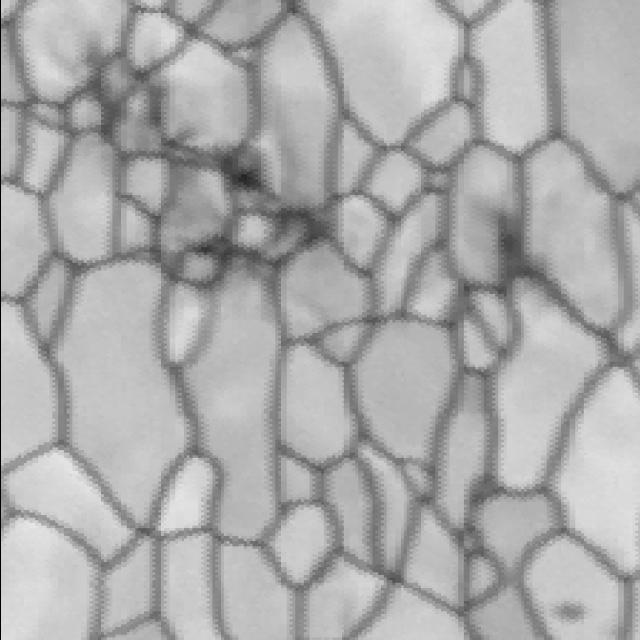good_void: (472, 214, 563, 303), (211, 131, 274, 206), (545, 593, 590, 632)
